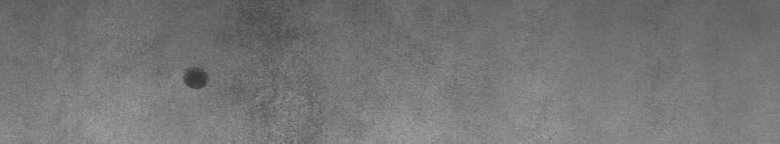fi: (180, 60, 209, 96)
